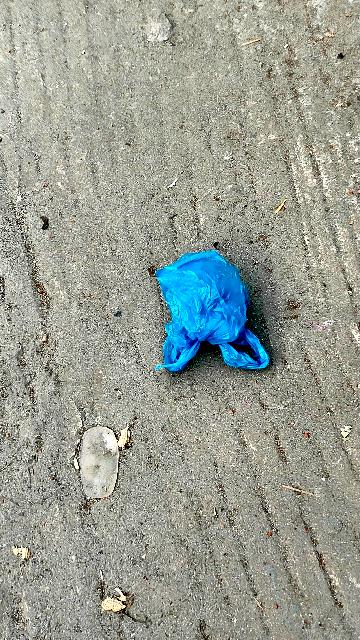polythene: (140, 241, 270, 396)
